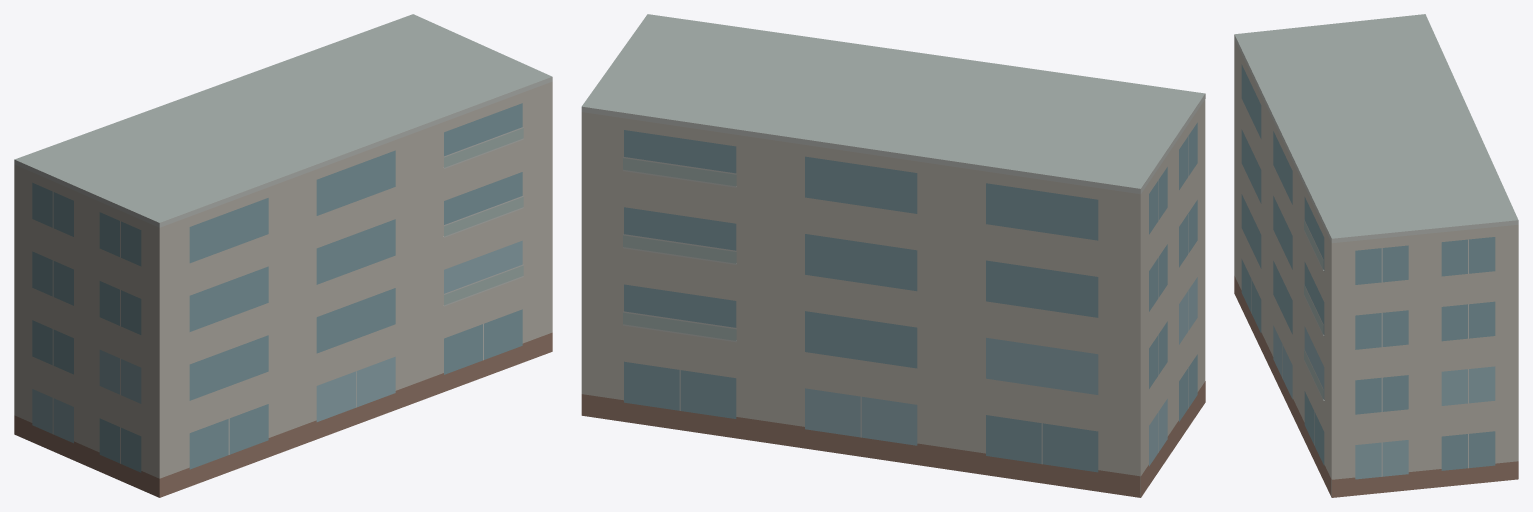
File: survey-upis-33016705.glb
The picture shows the model from 3 angles, left to right: view 1: azimuth 30°, elevation 25°; view 2: azimuth 150°, elevation 25°; view 3: azimuth 270°, elevation 25°; orthographic projection. The views are drawn at different scales.
Parts seen in each view (by area): view 1: survey-upis-33016705.tmp; view 2: survey-upis-33016705.tmp; view 3: survey-upis-33016705.tmp.
Boxes of the visible parts, box(x1,y1,x2,y2) form: survey-upis-33016705.tmp: box(14, 14, 552, 497); survey-upis-33016705.tmp: box(581, 14, 1205, 497); survey-upis-33016705.tmp: box(1234, 14, 1518, 497).
Size of the model in its own units: 25.86 by 13.9 by 13.82.
